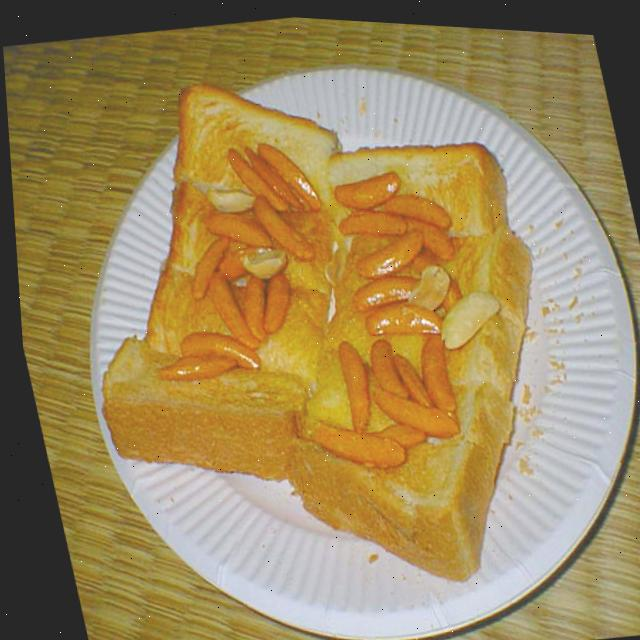面包点心: (54, 69, 619, 584)
